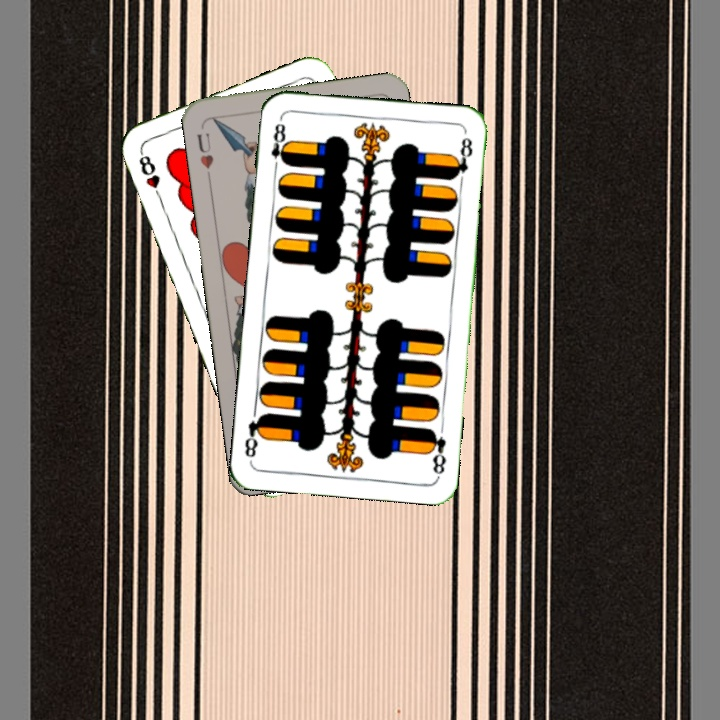E8: (267, 115, 291, 174), (425, 425, 449, 479)
H8: (135, 147, 165, 204)
HU: (193, 129, 216, 172)
